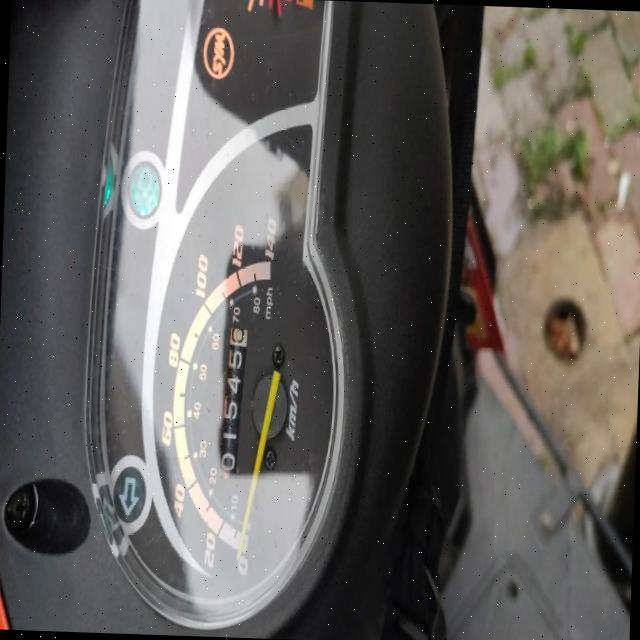odometer: (218, 322, 248, 478)
